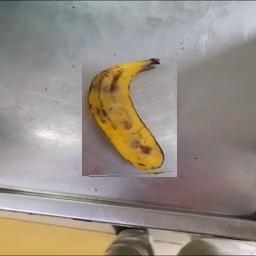Banana Semirotten: (82, 58, 177, 178)
